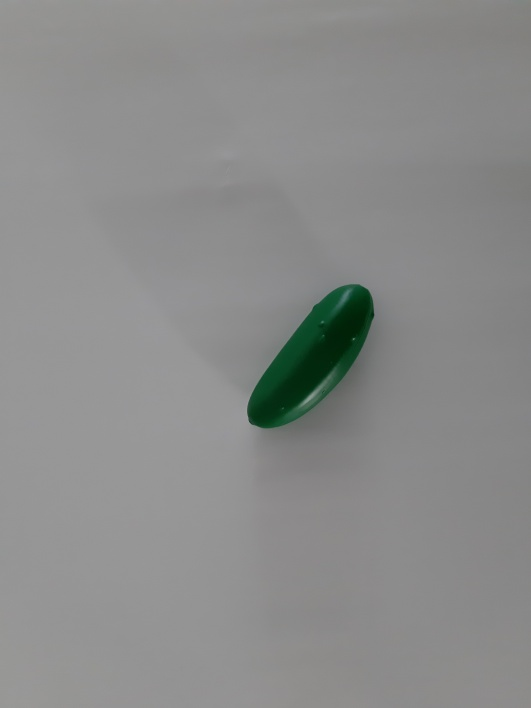cucumber: (223, 269, 395, 453)
